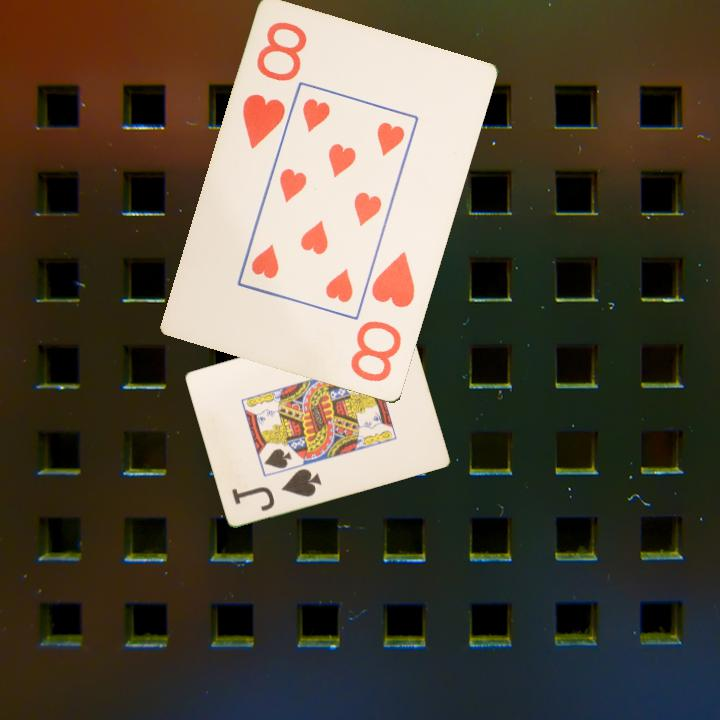8h: (347, 248, 418, 386), (239, 18, 311, 153)
Js: (228, 465, 325, 514)
